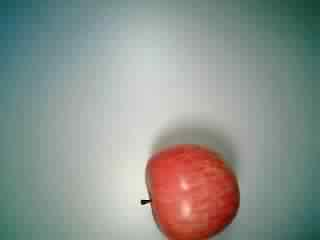apple: (137, 137, 244, 240)
